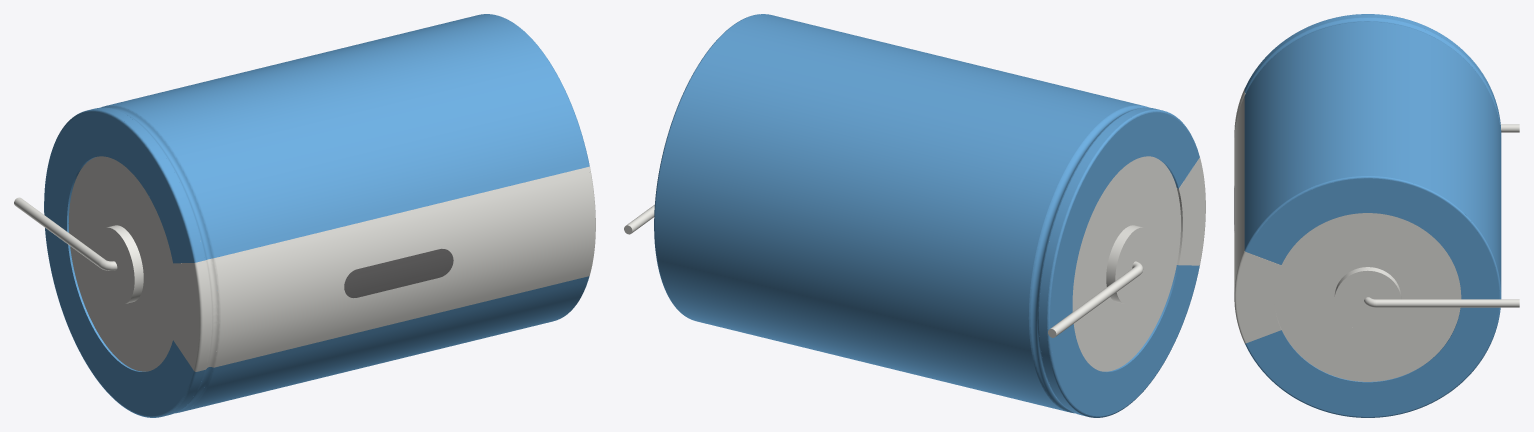
File: CP_Axial_L42.0mm_D29.0mm_P45.00mm_Horizontal.glb
3 renders of one model, left to right at view 1: azimuth 30°, elevation 25°; view 2: azimuth 150°, elevation 25°; view 3: azimuth 270°, elevation 25°, orthographic. The views are drawn at different scales.
Visible parts, largest first — view 1: Shape_IndexedFaceSet.009, Shape_IndexedFaceSet.039, Shape_IndexedFaceSet.006, Shape_IndexedFaceSet.054, Shape_IndexedFaceSet.018, Shape_IndexedFaceSet.031, Shape_IndexedFaceSet.052, Shape_IndexedFaceSet, Shape_IndexedFaceSet.005, Shape_IndexedFaceSet.003, Shape_IndexedFaceSet.041, Shape_IndexedFaceSet.025 (+4 smaller); view 2: Shape_IndexedFaceSet.009, Shape_IndexedFaceSet.006, Shape_IndexedFaceSet.054, Shape_IndexedFaceSet, Shape_IndexedFaceSet.005, Shape_IndexedFaceSet.031, Shape_IndexedFaceSet.052, Shape_IndexedFaceSet.003, Shape_IndexedFaceSet.041, Shape_IndexedFaceSet.007, Shape_IndexedFaceSet.053, Shape_IndexedFaceSet.002 (+1 smaller); view 3: Shape_IndexedFaceSet.009, Shape_IndexedFaceSet.012, Shape_IndexedFaceSet.049, Shape_IndexedFaceSet.036, Shape_IndexedFaceSet.047, Shape_IndexedFaceSet.039, Shape_IndexedFaceSet.011, Shape_IndexedFaceSet.045, Shape_IndexedFaceSet, Shape_IndexedFaceSet.005, Shape_IndexedFaceSet.002, Shape_IndexedFaceSet.048.
Boxes of the visible parts, x1=… form: Shape_IndexedFaceSet.009: x1=107, y1=14, x2=588, y2=411; Shape_IndexedFaceSet.039: x1=215, y1=167, x2=594, y2=367; Shape_IndexedFaceSet.006: x1=44, y1=112, x2=193, y2=416; Shape_IndexedFaceSet.054: x1=68, y1=156, x2=177, y2=371; Shape_IndexedFaceSet.018: x1=344, y1=249, x2=453, y2=297; Shape_IndexedFaceSet.031: x1=173, y1=263, x2=199, y2=370; Shape_IndexedFaceSet.052: x1=95, y1=227, x2=134, y2=304; Shape_IndexedFaceSet: x1=88, y1=107, x2=204, y2=416; Shape_IndexedFaceSet.005: x1=103, y1=106, x2=212, y2=411; Shape_IndexedFaceSet.003: x1=44, y1=109, x2=196, y2=417; Shape_IndexedFaceSet.041: x1=14, y1=197, x2=104, y2=267; Shape_IndexedFaceSet.025: x1=197, y1=260, x2=210, y2=371; Shape_IndexedFaceSet.009: x1=655, y1=14, x2=1141, y2=411; Shape_IndexedFaceSet.006: x1=1050, y1=112, x2=1199, y2=416; Shape_IndexedFaceSet.054: x1=1072, y1=156, x2=1180, y2=371; Shape_IndexedFaceSet: x1=1039, y1=107, x2=1159, y2=416; Shape_IndexedFaceSet.005: x1=1031, y1=106, x2=1146, y2=412; Shape_IndexedFaceSet.031: x1=1179, y1=158, x2=1205, y2=265; Shape_IndexedFaceSet.052: x1=1115, y1=227, x2=1154, y2=304; Shape_IndexedFaceSet.003: x1=1047, y1=109, x2=1199, y2=417; Shape_IndexedFaceSet.041: x1=1050, y1=266, x2=1141, y2=336; Shape_IndexedFaceSet.007: x1=1028, y1=105, x2=1148, y2=413; Shape_IndexedFaceSet.053: x1=1106, y1=225, x2=1142, y2=303; Shape_IndexedFaceSet.002: x1=1037, y1=107, x2=1150, y2=409; Shape_IndexedFaceSet.009: x1=1244, y1=21, x2=1501, y2=291; Shape_IndexedFaceSet.012: x1=1246, y1=178, x2=1499, y2=416; Shape_IndexedFaceSet.049: x1=1274, y1=213, x2=1461, y2=381; Shape_IndexedFaceSet.036: x1=1236, y1=252, x2=1281, y2=342; Shape_IndexedFaceSet.047: x1=1334, y1=270, x2=1400, y2=331; Shape_IndexedFaceSet.039: x1=1234, y1=96, x2=1244, y2=291; Shape_IndexedFaceSet.011: x1=1244, y1=176, x2=1501, y2=417; Shape_IndexedFaceSet.045: x1=1376, y1=299, x2=1519, y2=307; Shape_IndexedFaceSet: x1=1244, y1=14, x2=1501, y2=132; Shape_IndexedFaceSet.005: x1=1245, y1=19, x2=1496, y2=111; Shape_IndexedFaceSet.002: x1=1244, y1=17, x2=1501, y2=136; Shape_IndexedFaceSet.048: x1=1334, y1=267, x2=1401, y2=298.
Bounding box in the file's own units: 18.07 × 11.42 × 12.21.
